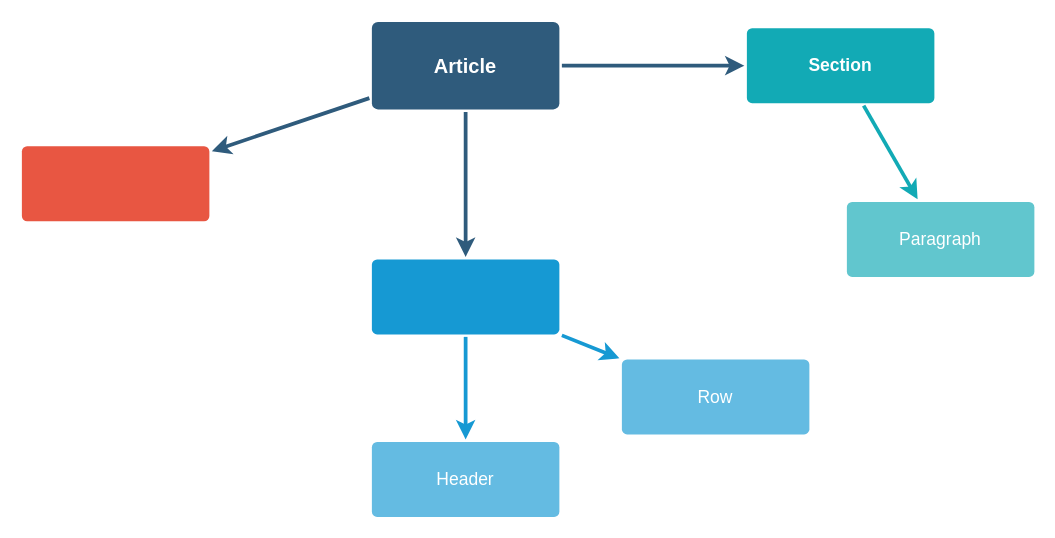
Image size: 1055x538. Some labels were removed from this diagram. The shapes that lost their labels are listed below. From the top down, each one's centre as x and y in pixels, then its label:
pixel 115 183: References
pixel 465 296: Table
